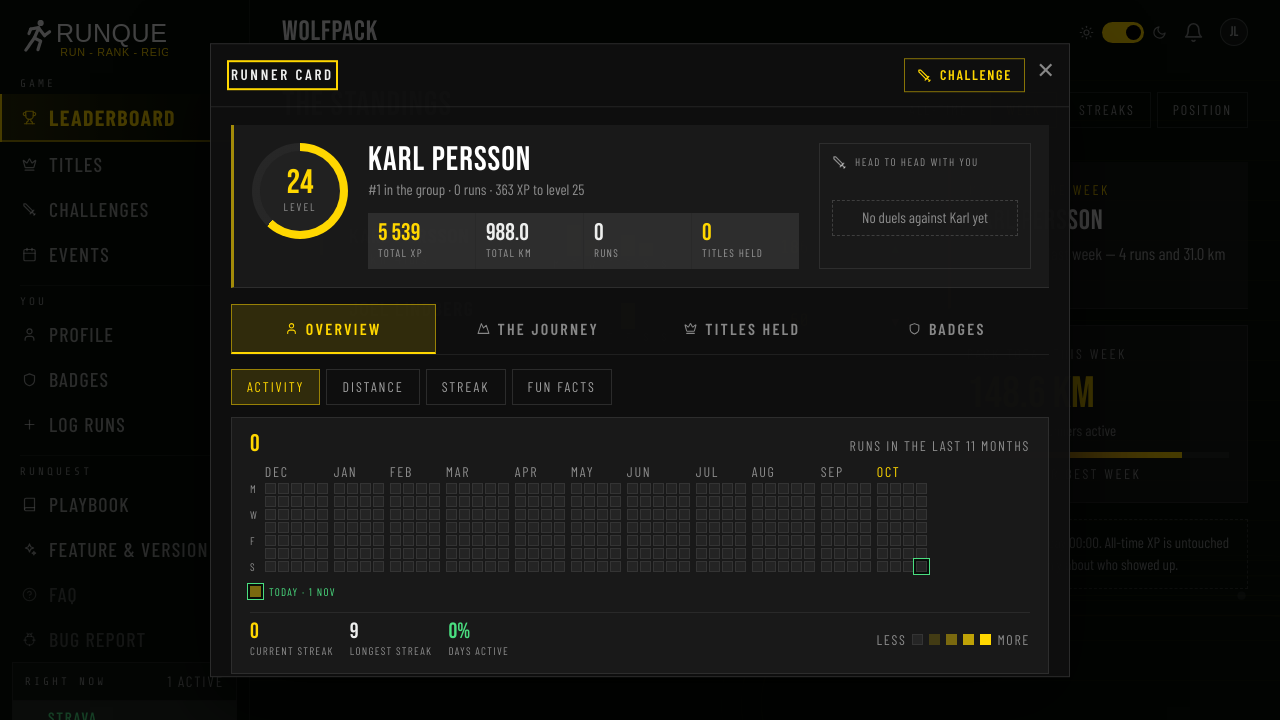
Test: cancelling the send flow that the profile popup opened › with the board under the popup › cancel returns to the background page and focuses the runner row, closing with a click on the scrim
Click the link "Challenge" at {"x": 964, "y": 75}, box [904,58,1025,92]
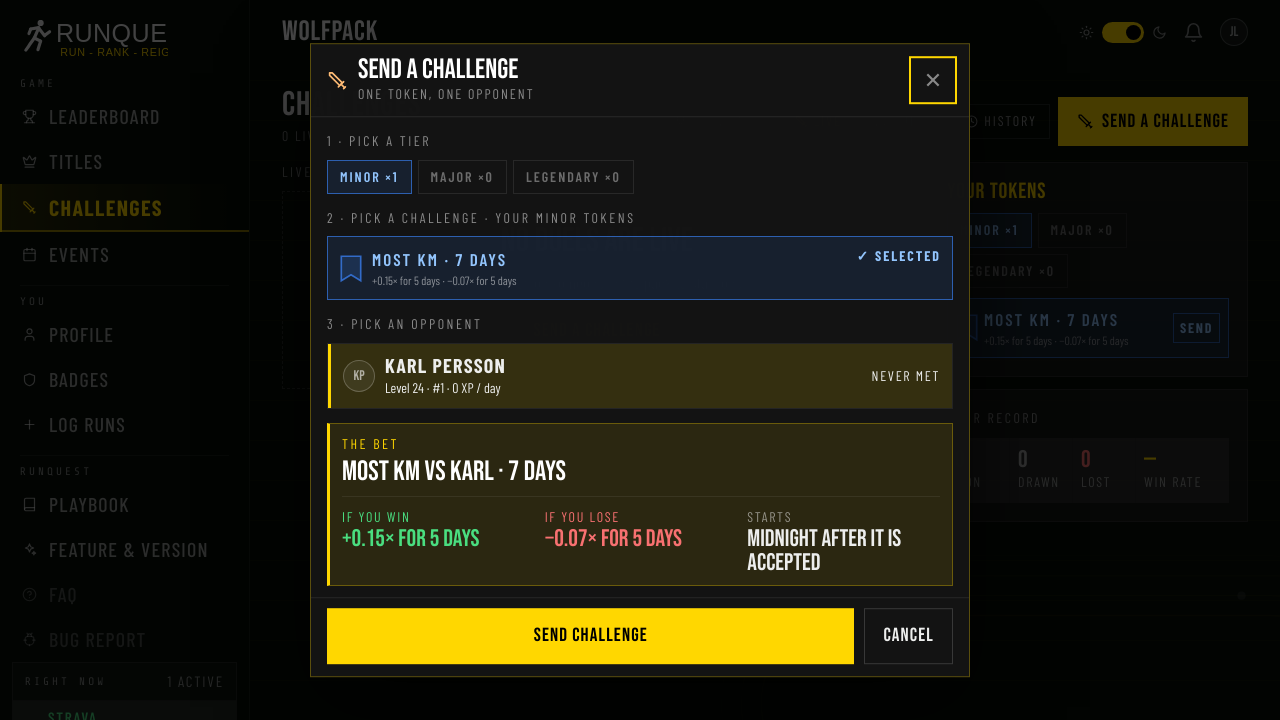
Now the dialog "Send a challenge" is shown, box [310,43,970,677]
Click the element with class "rq-scrim" at {"x": 77, "y": 360}, box [0,0,1279,719]
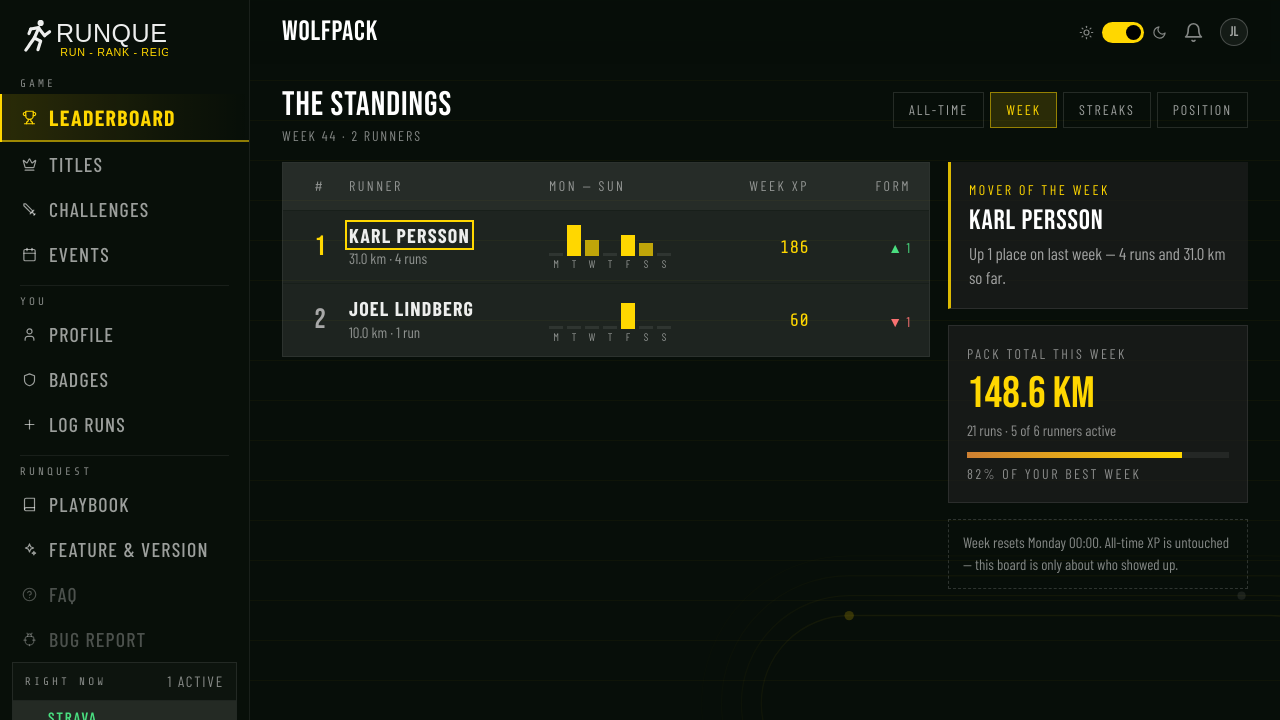
Now the dialog is gone
Now the heading "The standings" is shown, box [282,88,452,122]
